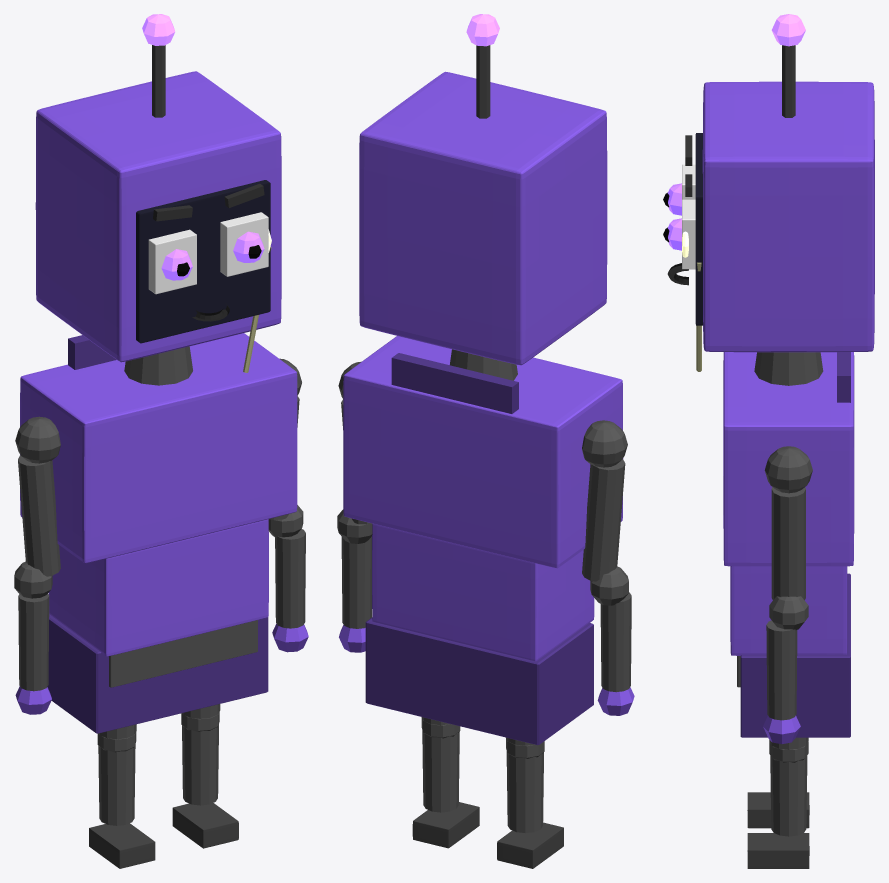
File: sage.glb
3 views of the same model, side by side, from view 1: azimuth 30°, elevation 25°; view 2: azimuth 150°, elevation 25°; view 3: azimuth 270°, elevation 25° (orthographic).
Parts seen in each view (by area): view 1: sage_chest, sage_head, sage_waist, sage_coat_tails, sage_face_plate, sage_hips, sage_l_upper_arm, sage_l_forearm, sage_r_forearm, sage_l_calf, sage_r_calf, sage_l_foot (+14 smaller); view 2: sage_head, sage_chest, sage_waist, sage_coat_tails, sage_coat_collar, sage_l_upper_arm, sage_r_calf, sage_l_calf, sage_l_forearm, sage_r_forearm, sage_r_foot, sage_l_foot (+8 smaller); view 3: sage_head, sage_chest, sage_waist, sage_coat_tails, sage_r_upper_arm, sage_r_forearm, sage_r_calf, sage_r_foot, sage_neck, sage_r_shoulder, sage_face_plate, sage_r_elbow (+7 smaller).
Boxes of the visible parts, x1,y1,x2,y2 form: sage_chest: (20, 333, 297, 563); sage_head: (35, 71, 281, 362); sage_waist: (48, 519, 268, 656); sage_coat_tails: (47, 614, 268, 733); sage_face_plate: (136, 180, 270, 343); sage_hips: (109, 620, 257, 687); sage_l_upper_arm: (18, 455, 60, 576); sage_l_forearm: (18, 594, 49, 691); sage_r_forearm: (275, 529, 305, 628); sage_l_calf: (98, 744, 135, 825); sage_r_calf: (182, 725, 218, 805); sage_l_foot: (89, 823, 155, 868); sage_head: (359, 71, 607, 365); sage_chest: (343, 336, 623, 568); sage_waist: (372, 523, 594, 661); sage_coat_tails: (365, 617, 593, 745); sage_coat_collar: (391, 353, 518, 413); sage_l_upper_arm: (582, 459, 625, 581); sage_r_calf: (422, 731, 459, 812); sage_l_calf: (506, 751, 543, 833); sage_l_forearm: (600, 592, 631, 692); sage_r_forearm: (341, 536, 371, 628); sage_r_foot: (412, 802, 479, 848); sage_l_foot: (497, 822, 563, 868); sage_head: (702, 81, 874, 352); sage_chest: (723, 352, 854, 566); sage_waist: (730, 566, 847, 655); sage_coat_tails: (740, 573, 850, 737); sage_r_upper_arm: (771, 487, 805, 600); sage_r_forearm: (766, 620, 797, 720); sage_r_calf: (770, 755, 807, 836); sage_r_foot: (747, 833, 809, 868); sage_neck: (754, 352, 823, 385); sage_r_shoulder: (764, 446, 812, 493); sage_face_plate: (695, 133, 703, 325); sage_r_elbow: (769, 596, 808, 629).
Size of the model in its own units: 0.97 by 2.64 by 0.6148.
